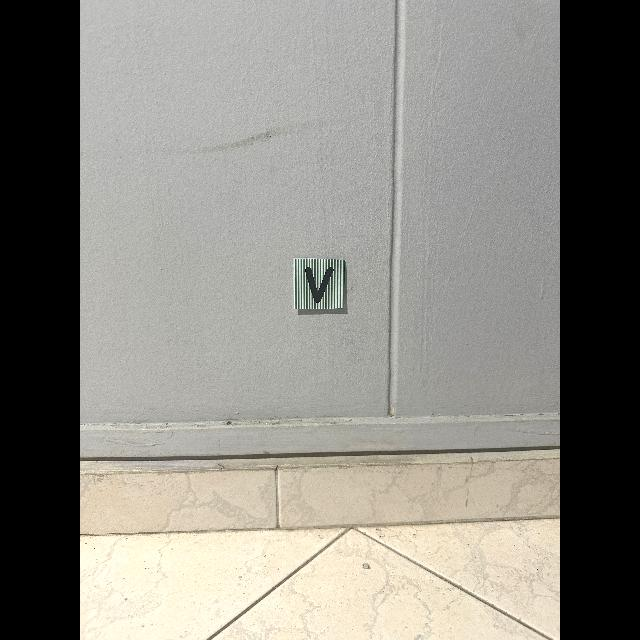V: (305, 266, 333, 303)
